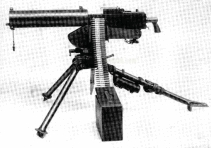rifle: (3, 1, 209, 145)
